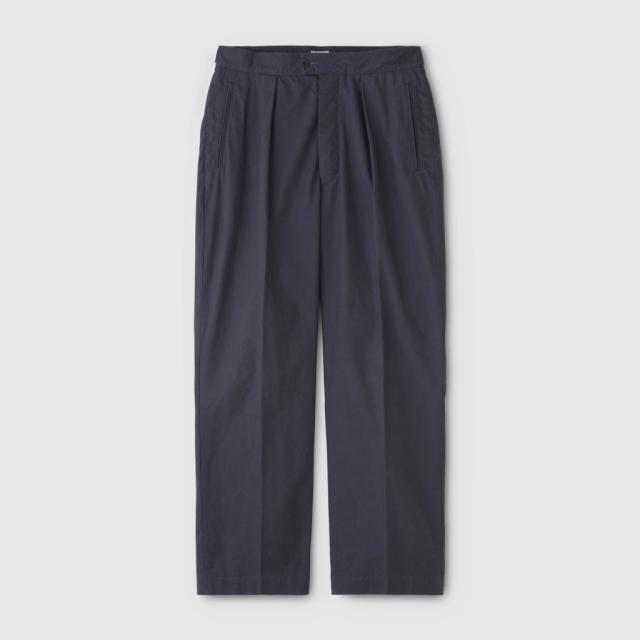long-pants: (192, 45, 449, 602)
